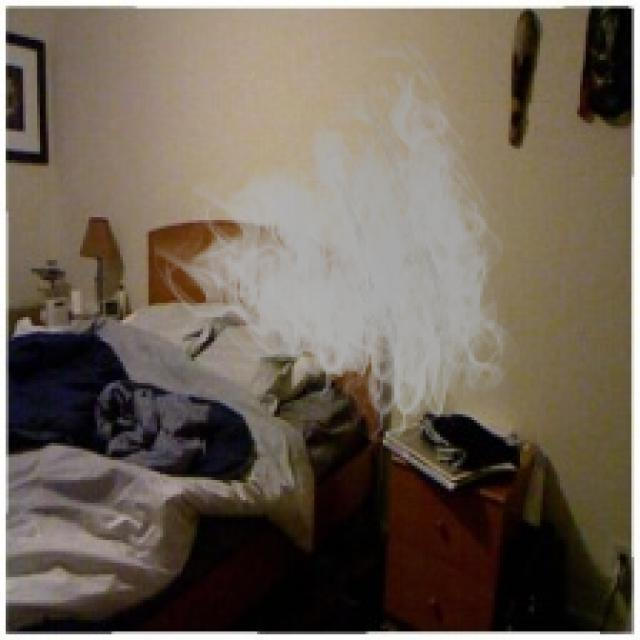smoke: (154, 34, 529, 454)
